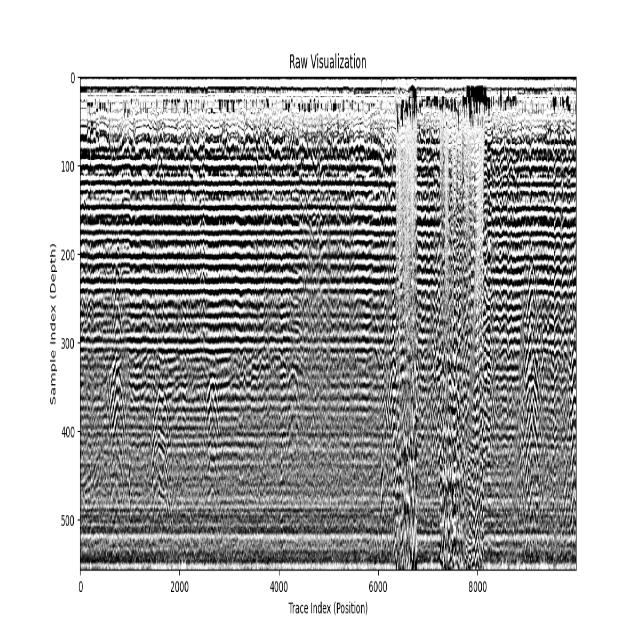anomaly: (440, 104, 487, 570), (395, 110, 418, 570), (517, 253, 543, 523), (110, 223, 122, 545), (148, 383, 170, 519), (203, 373, 220, 505), (285, 355, 304, 450)
